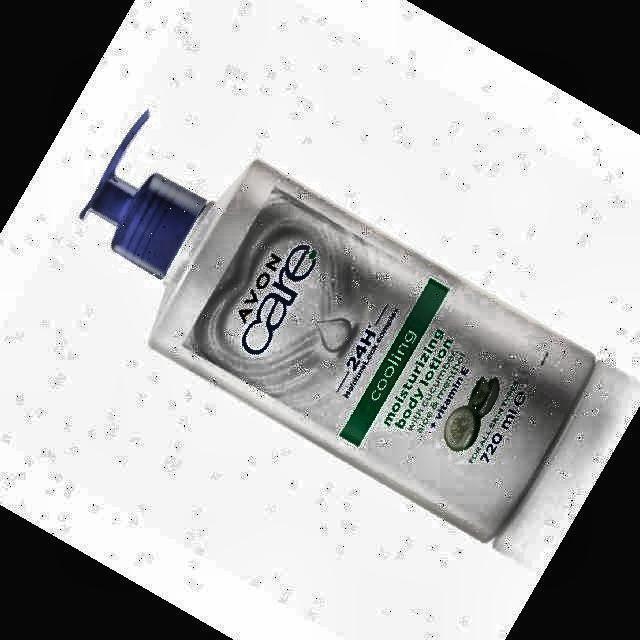plastic: (80, 112, 594, 539)
